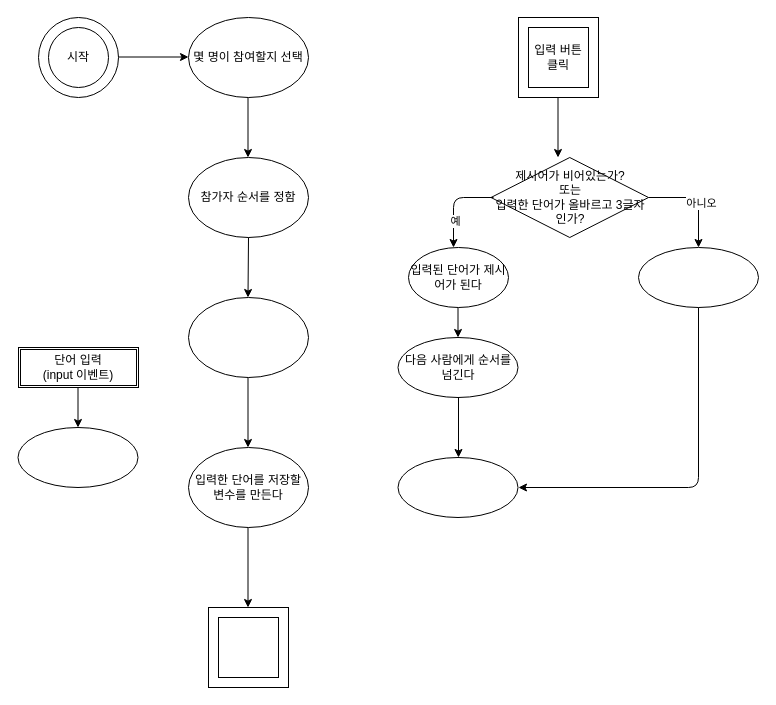
Some shapes in this 776 by 705 pixel diagram are drawn without their labels. The shapes that lost their labels are listed below. From the top down, each one's centre as x and y in pixels, then its label:
At point (698, 277): "틀렸다고 표시한다".
At point (248, 337): "제시어를 저장할 변수를 만든다".
At point (77, 457): "입력한 단어를 저장한다".
At point (457, 487): "입력창을 비우고 커서를 둔다".
At point (248, 647): "대기".
